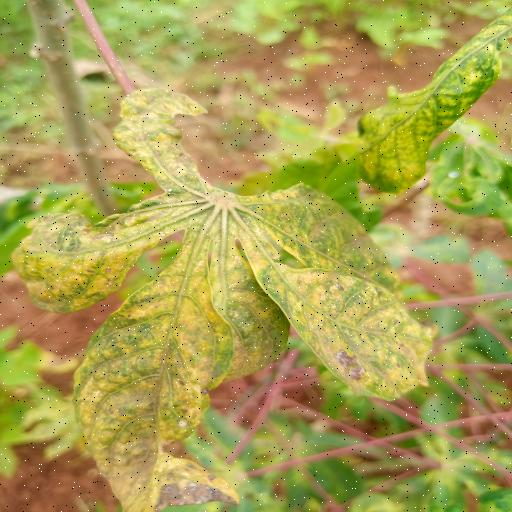Cassava_Mosaic: (16, 79, 444, 511)
